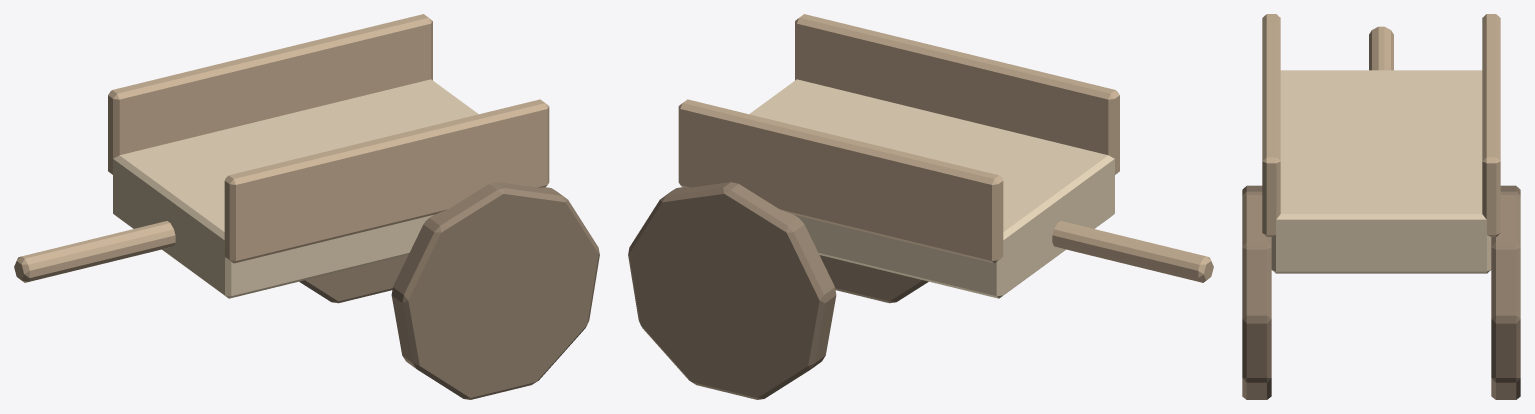
File: cart.glb
3 renders of one model, left to right at view 1: azimuth 30°, elevation 25°; view 2: azimuth 150°, elevation 25°; view 3: azimuth 270°, elevation 25°, orthographic. The views are drawn at different scales.
Visible parts, largest first — view 1: wheel1, bed, side1, side2, shaft, wheel2; view 2: wheel2, bed, side2, side1, shaft, wheel1; view 3: bed, wheel1, wheel2, side1, side2, shaft.
Boxes of the visible parts, <box> form: wheel1: <box>391,182,599,399</box>; bed: <box>113,79,478,298</box>; side1: <box>224,99,549,263</box>; side2: <box>108,14,432,174</box>; shaft: <box>14,221,175,282</box>; wheel2: <box>299,255,408,303</box>; wheel2: <box>628,182,836,399</box>; bed: <box>749,79,1114,298</box>; side2: <box>678,99,1003,263</box>; side1: <box>795,14,1119,174</box>; shaft: <box>1052,221,1213,282</box>; wheel1: <box>819,255,928,303</box>; bed: <box>1271,70,1491,273</box>; wheel1: <box>1242,185,1271,399</box>; wheel2: <box>1491,185,1520,399</box>; side1: <box>1262,14,1280,236</box>; side2: <box>1482,14,1500,236</box>; shaft: <box>1369,26,1393,70</box>.
Bounding box in the file's own units: 1.51 × 0.7619 × 0.76.
